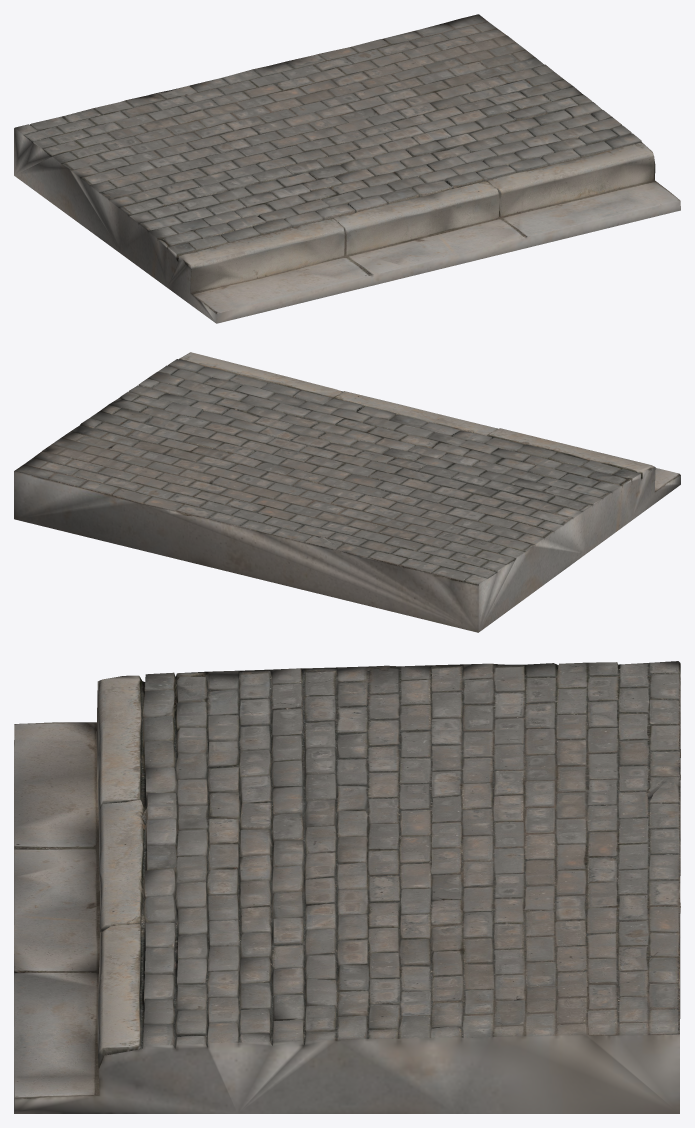
File: PX_Sidewalk_05_LOD3.fbx
3 views of the same model, one above another, from view 1: azimuth 30°, elevation 25°; view 2: azimuth 150°, elevation 25°; view 3: azimuth 270°, elevation 25° (orthographic). The views are drawn at different scales.
Parts seen in each view (by area): view 1: PX_Sidewalk_05_LOD3; view 2: PX_Sidewalk_05_LOD3; view 3: PX_Sidewalk_05_LOD3.
Part boxes in pixels (bbox=[...]): PX_Sidewalk_05_LOD3: bbox=[14, 14, 680, 323]; PX_Sidewalk_05_LOD3: bbox=[14, 352, 680, 632]; PX_Sidewalk_05_LOD3: bbox=[14, 661, 680, 1113].
Size of the model in its own units: 308 by 30.87 by 232.
